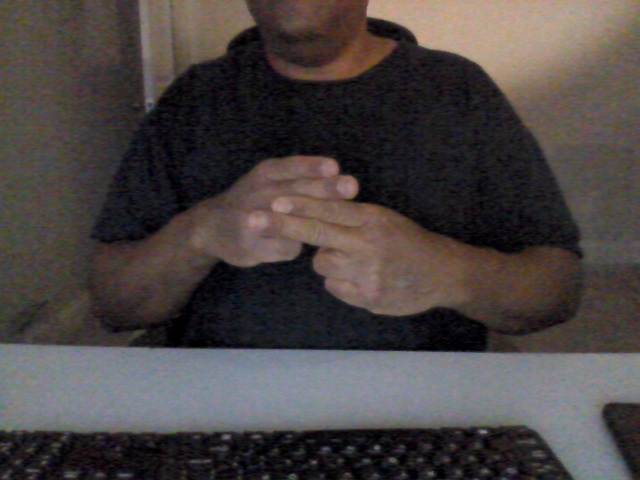name: (198, 153, 446, 320)
